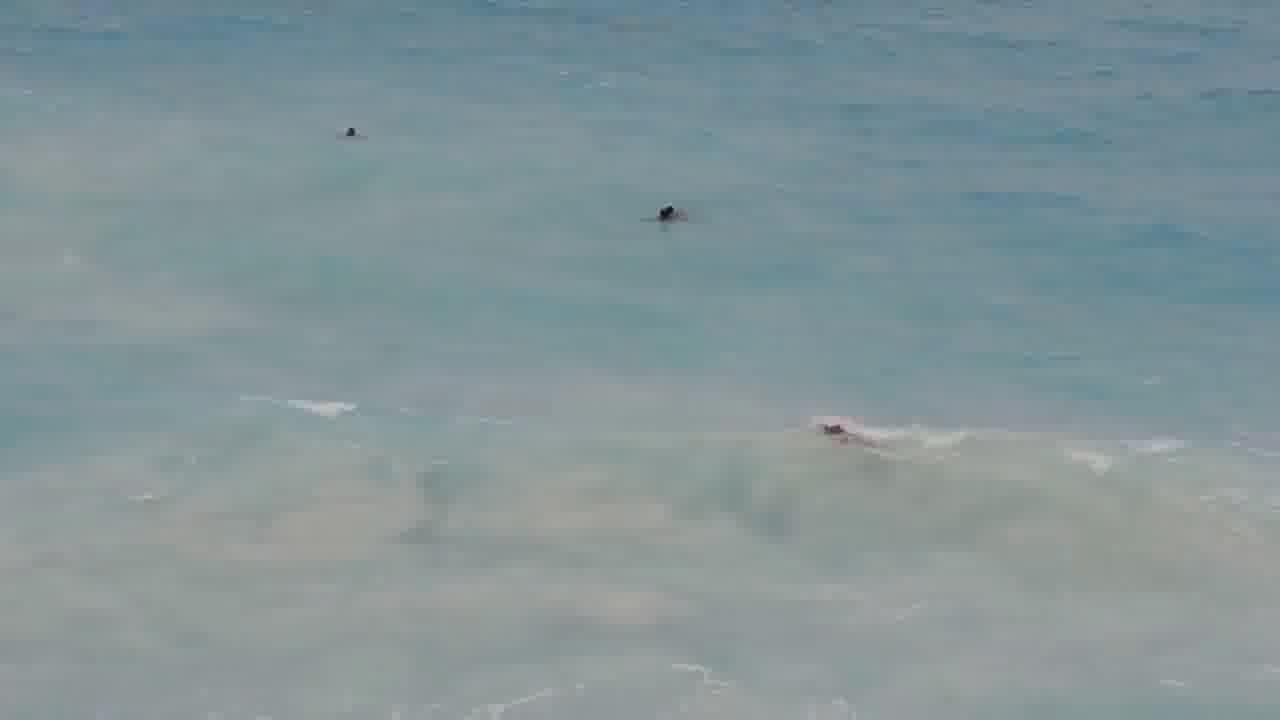human: (651, 192, 691, 228), (340, 116, 362, 142)
